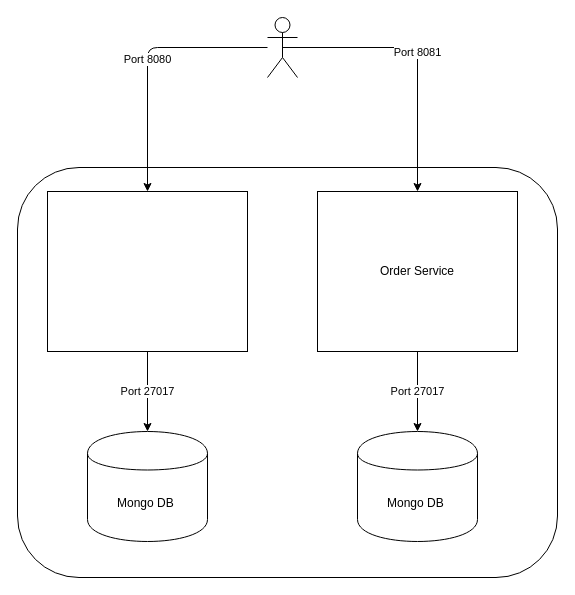
This 575x595 diagram has some shape labels left out. Here are the shapes that lost their labels. From the top down, the centre of each, then its label:
At [282,47]: "REST Client (Open API 3.0)".
At [147,271]: "Person / Contact Service".
